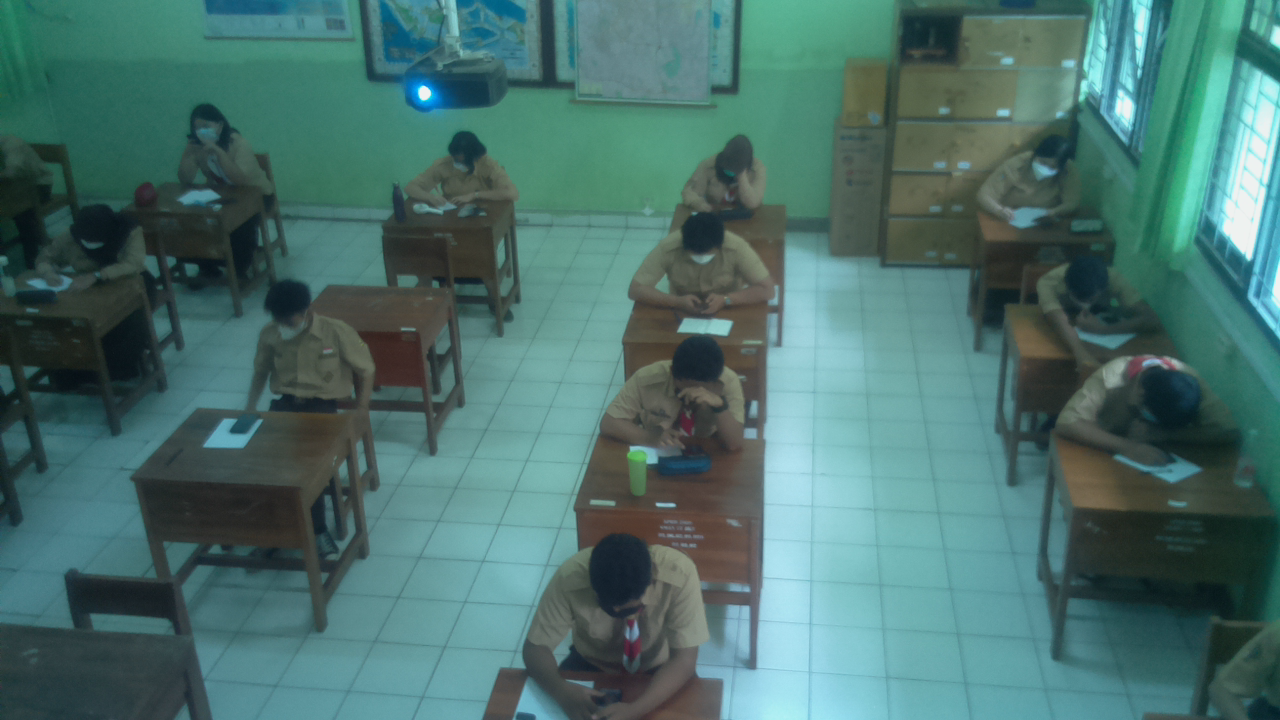Student: (551, 535, 698, 663), (249, 283, 358, 402), (1075, 355, 1220, 443), (625, 337, 743, 439), (649, 211, 755, 304), (1035, 251, 1137, 322), (47, 203, 144, 277), (177, 105, 260, 185), (989, 135, 1075, 209), (415, 135, 507, 202), (689, 137, 767, 208)
